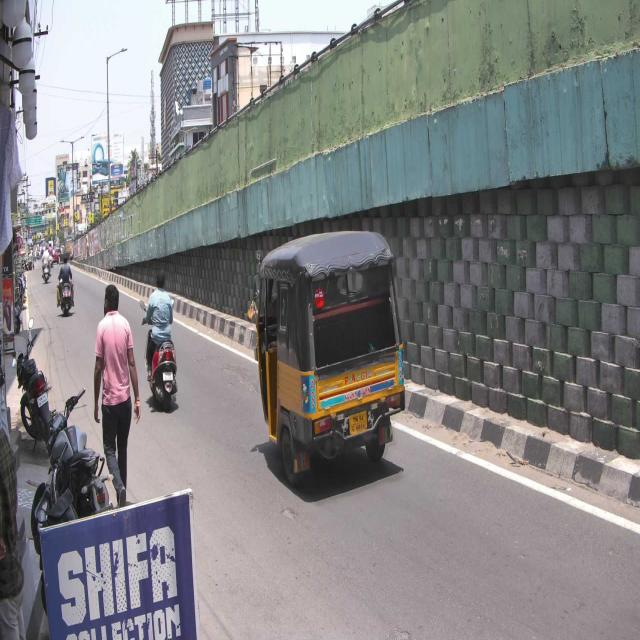single_rider: (139, 270, 180, 412)
